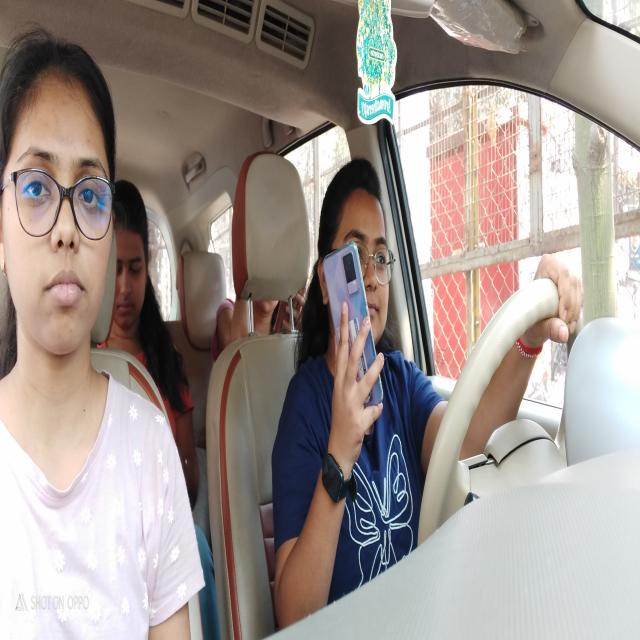mobile: (322, 249, 386, 421)
person: (2, 28, 116, 354), (317, 163, 390, 348), (109, 184, 151, 335), (233, 284, 294, 336)
